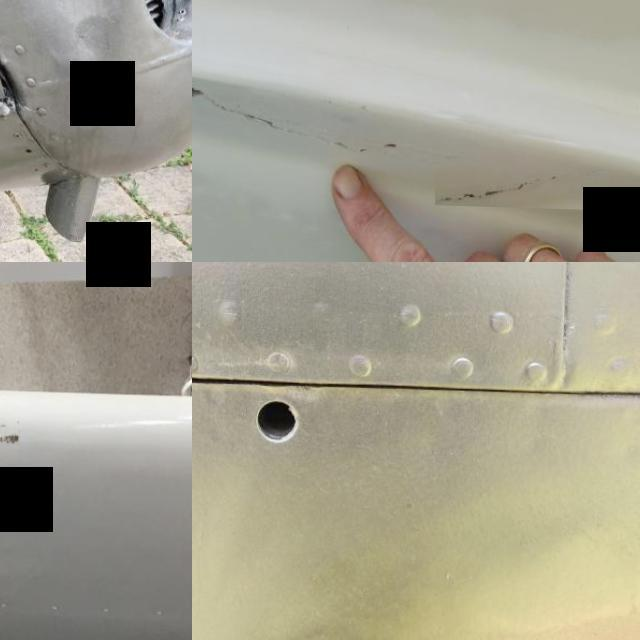Crack: (192, 84, 459, 158), (435, 166, 608, 203), (0, 412, 33, 473)
Dent: (0, 0, 135, 79)
Missing_Fastener: (220, 356, 332, 478)
